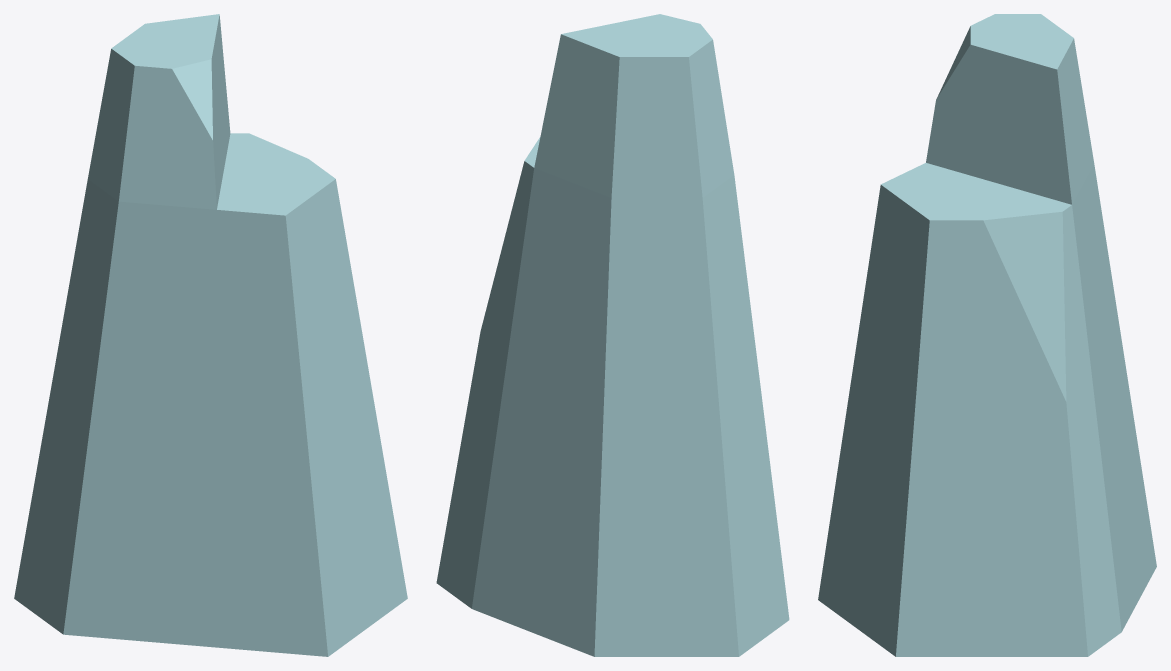
File: stone_tallI.dae
3 views of the same model, side by side, from view 1: azimuth 30°, elevation 25°; view 2: azimuth 150°, elevation 25°; view 3: azimuth 270°, elevation 25° (orthographic). The views are drawn at different scales.
Parts seen in each view (by area): view 1: stone_tallI; view 2: stone_tallI; view 3: stone_tallI.
Part boxes in pixels (<box>): stone_tallI: <box>14,14,407,656</box>; stone_tallI: <box>436,14,789,656</box>; stone_tallI: <box>818,14,1156,656</box>.
Size of the model in its own units: 0.4562 by 0.8118 by 0.4644.
